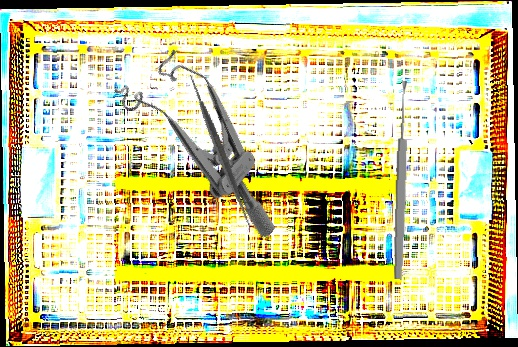Spatula Surgical: (135, 68, 305, 235)
Speculum: (101, 36, 323, 240)
Surgical Spoon: (392, 80, 411, 280)
